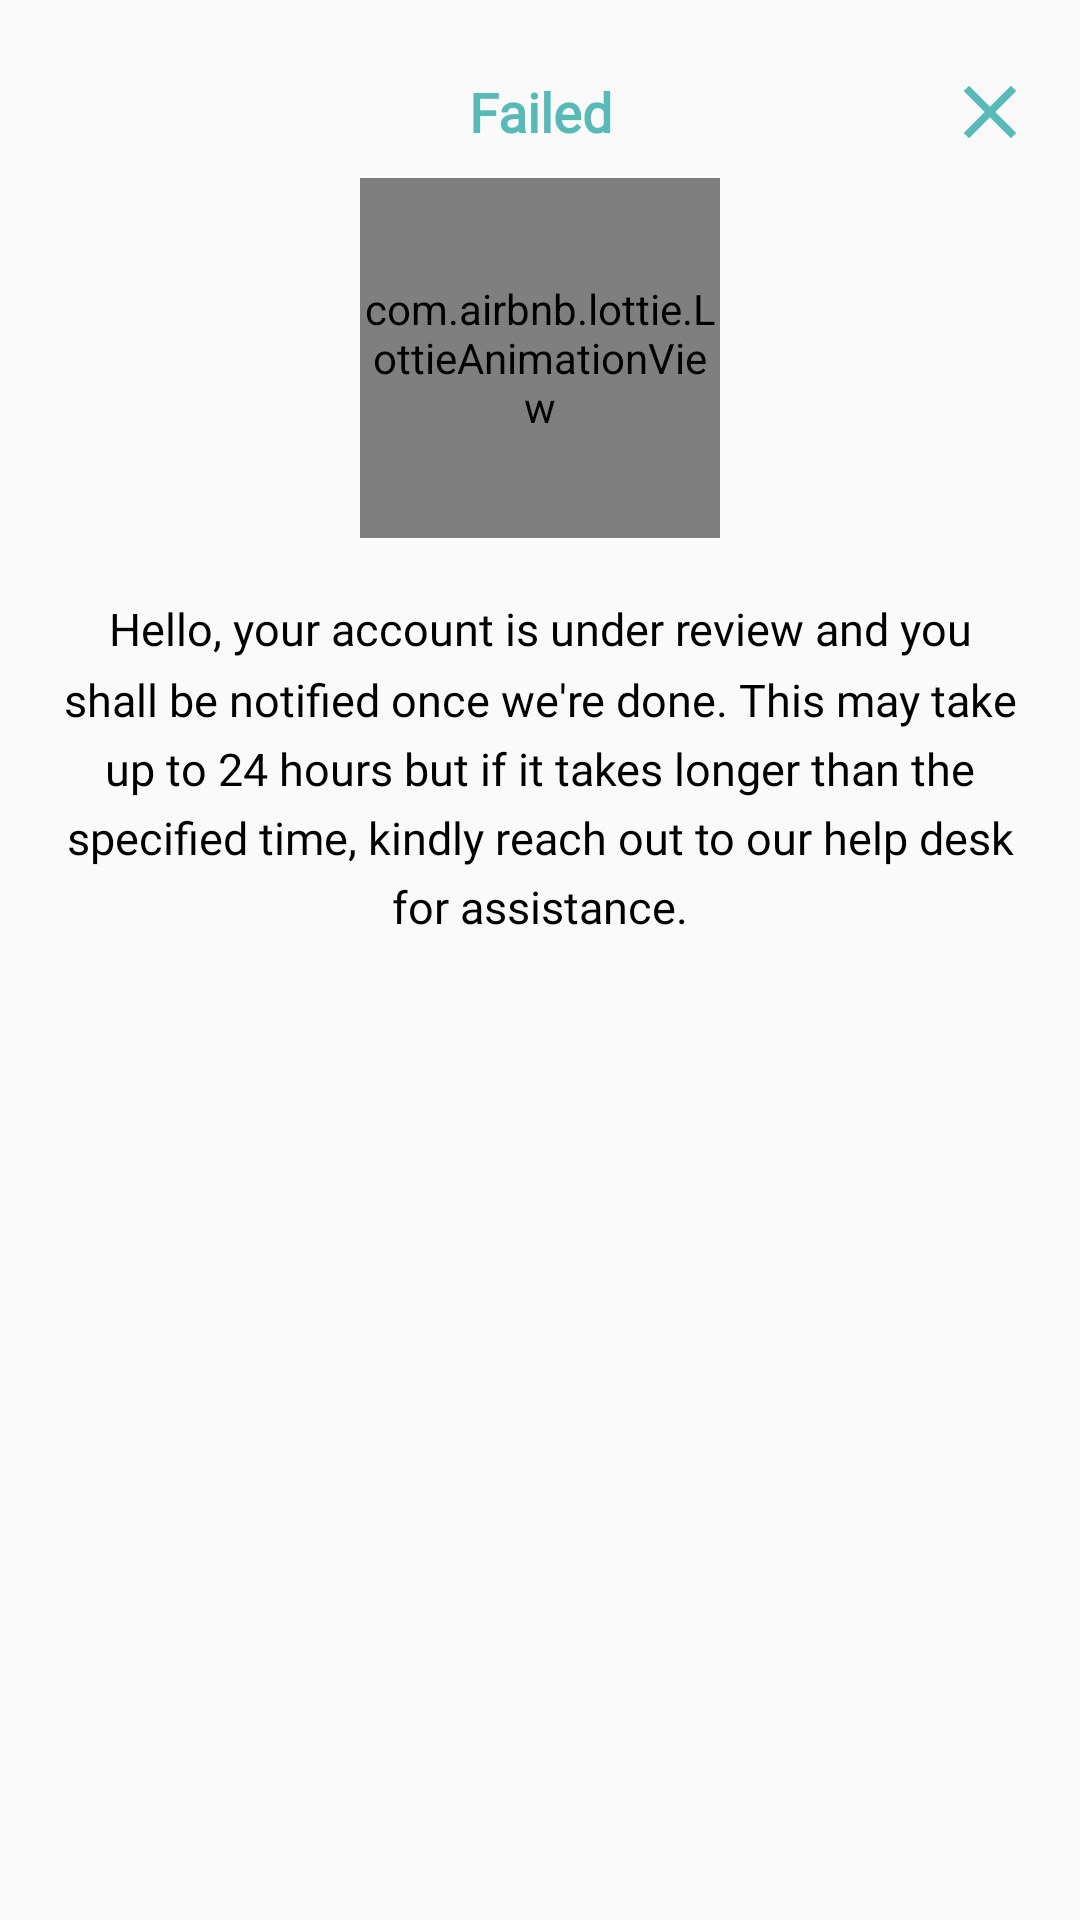

Icons on this 1080 × 1920 Android screen, each with its box as (x1, y1, x2, y2):
close: (964, 86, 1016, 138)
